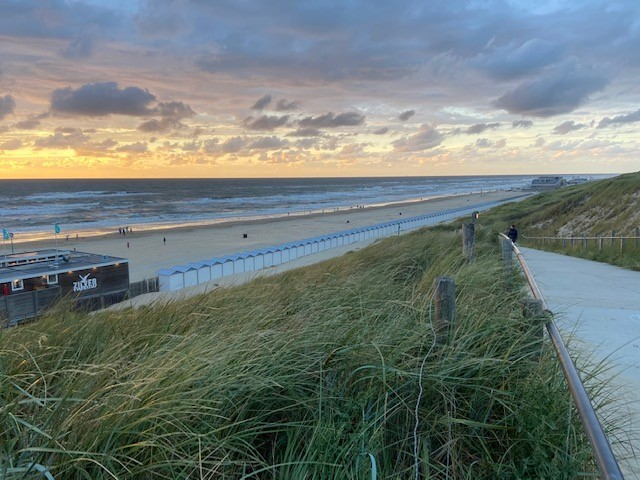zilvermeeuw: (1, 243, 137, 325)
